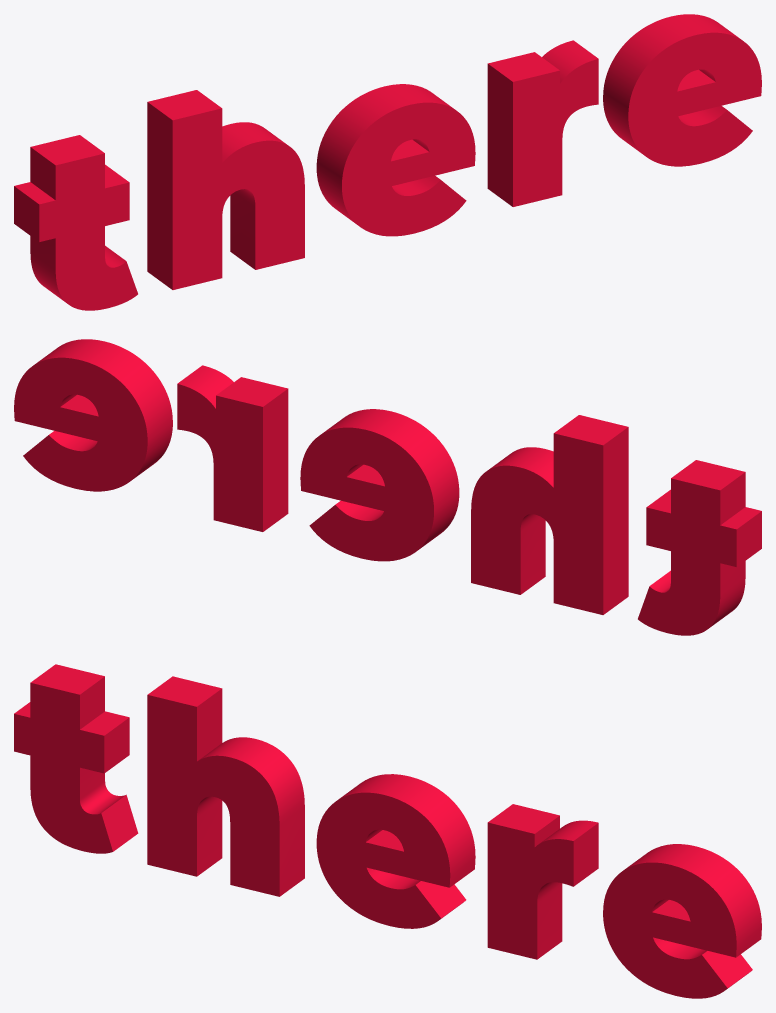
The model's file is there_02.obj.
3 views of the same model, one above another, from view 1: azimuth 30°, elevation 25°; view 2: azimuth 150°, elevation 25°; view 3: azimuth 330°, elevation 25° (orthographic).
Visible parts, largest first — view 1: Default; view 2: Default; view 3: Default.
Boxes of the visible parts, x1,y1,x2,y2 form: Default: (14, 14, 761, 310); Default: (14, 339, 761, 635); Default: (14, 664, 761, 998).
Size of the model in its own units: 1.32 by 0.3008 by 0.08.
